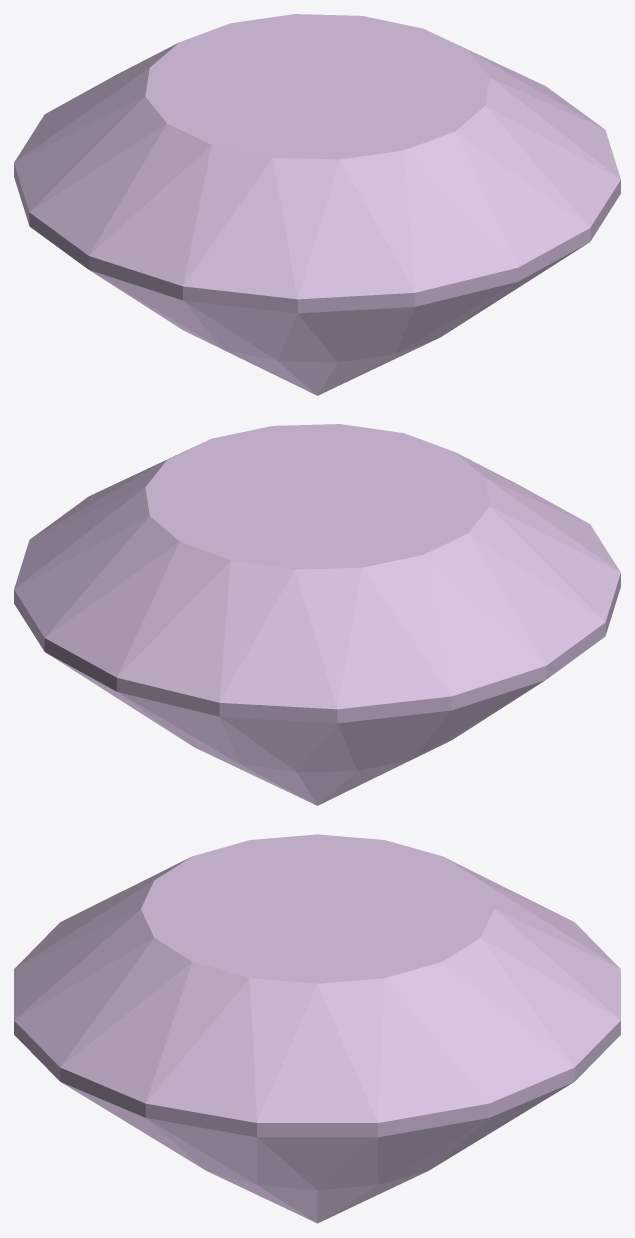
Rendered from taaffeite.glb.
The picture shows the model from 3 angles, top to bottom: view 1: azimuth 30°, elevation 25°; view 2: azimuth 150°, elevation 25°; view 3: azimuth 270°, elevation 25°; orthographic projection.
Parts seen in each view (by area): view 1: taaffeite; view 2: taaffeite; view 3: taaffeite.
Boxes of the visible parts, left/top/right/bottom form: taaffeite: left=14, top=14, right=620, bottom=395; taaffeite: left=14, top=424, right=620, bottom=805; taaffeite: left=14, top=834, right=620, bottom=1223.
Bounding box in the file's own units: 0.25 × 0.1429 × 0.25.
